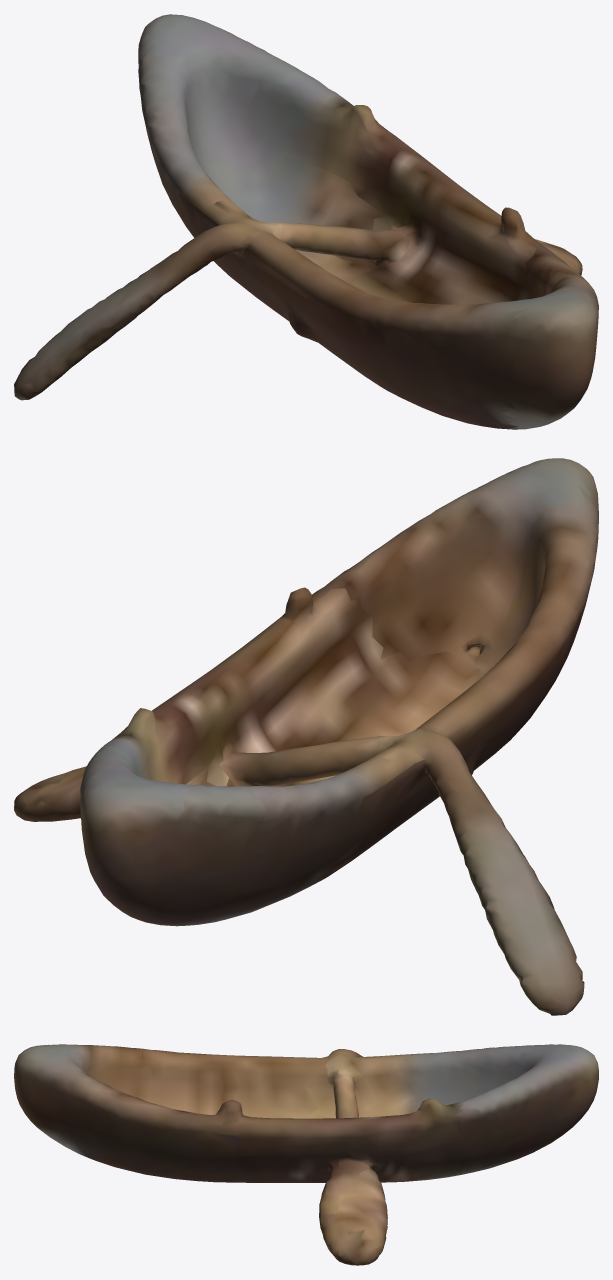
Rendered from s06_canoa.glb.
3 renders of one model, top to bottom at view 1: azimuth 30°, elevation 25°; view 2: azimuth 150°, elevation 25°; view 3: azimuth 270°, elevation 25°, orthographic. The views are drawn at different scales.
Parts seen in each view (by area): view 1: s06_canoa; view 2: s06_canoa; view 3: s06_canoa.
Boxes of the visible parts, x1,y1,x2,y2 form: s06_canoa: (14, 14, 598, 429); s06_canoa: (14, 458, 598, 1015); s06_canoa: (14, 1044, 598, 1265).
Bounding box in the file's own units: 1.02 × 0.4117 × 1.42.
Materials: 1 (1 with a texture image).
